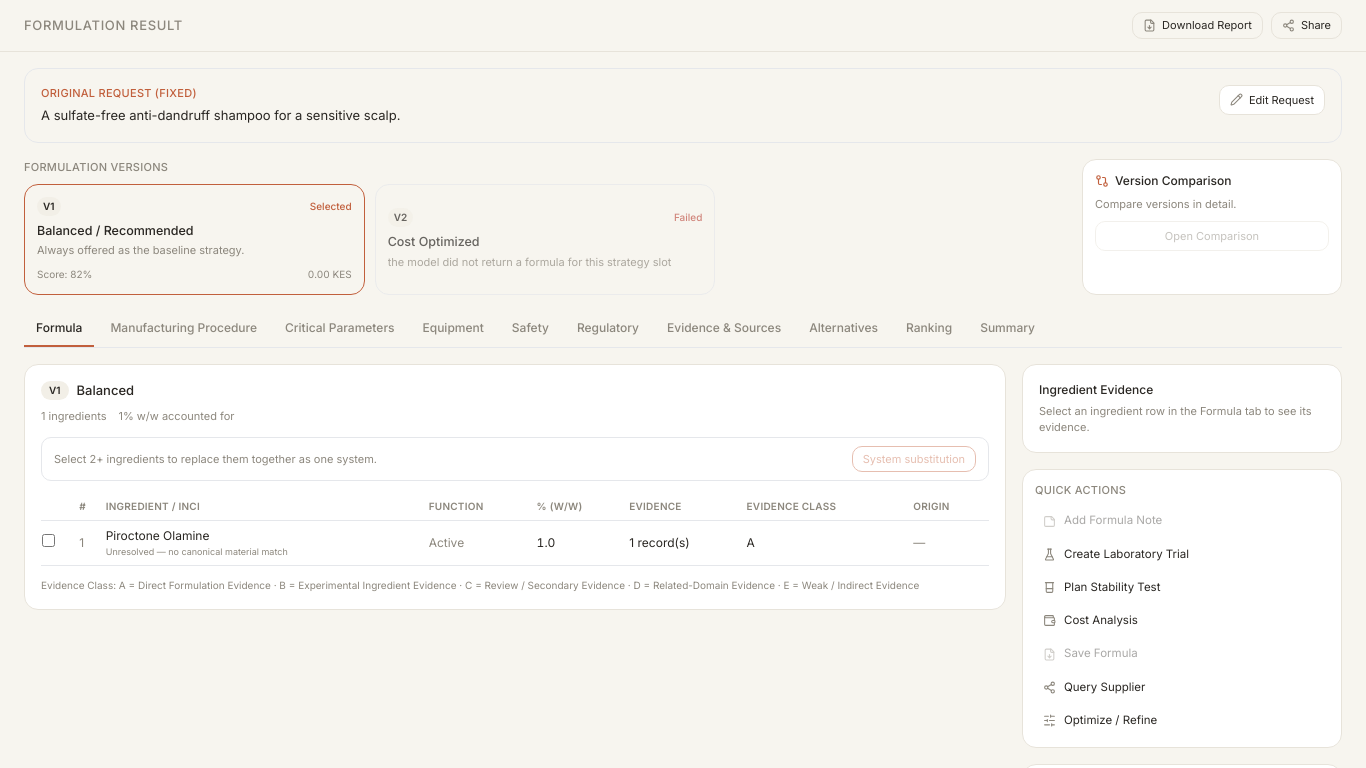
Test: FormulationResultPage — Session 3 strategy/score/evidence/failure wiring › evidence panel shows the real linked evidence class and DOI, not a canned insufficient-evidence notice
This screenshot has width=1366, height=768.
Expected: the text "Piroctone Olamine" is shown, [106, 528, 209, 543]
Click the cell "Piroctone Olamine Unresolved — no canonical material match" at (158, 536), box [105, 521, 428, 565]
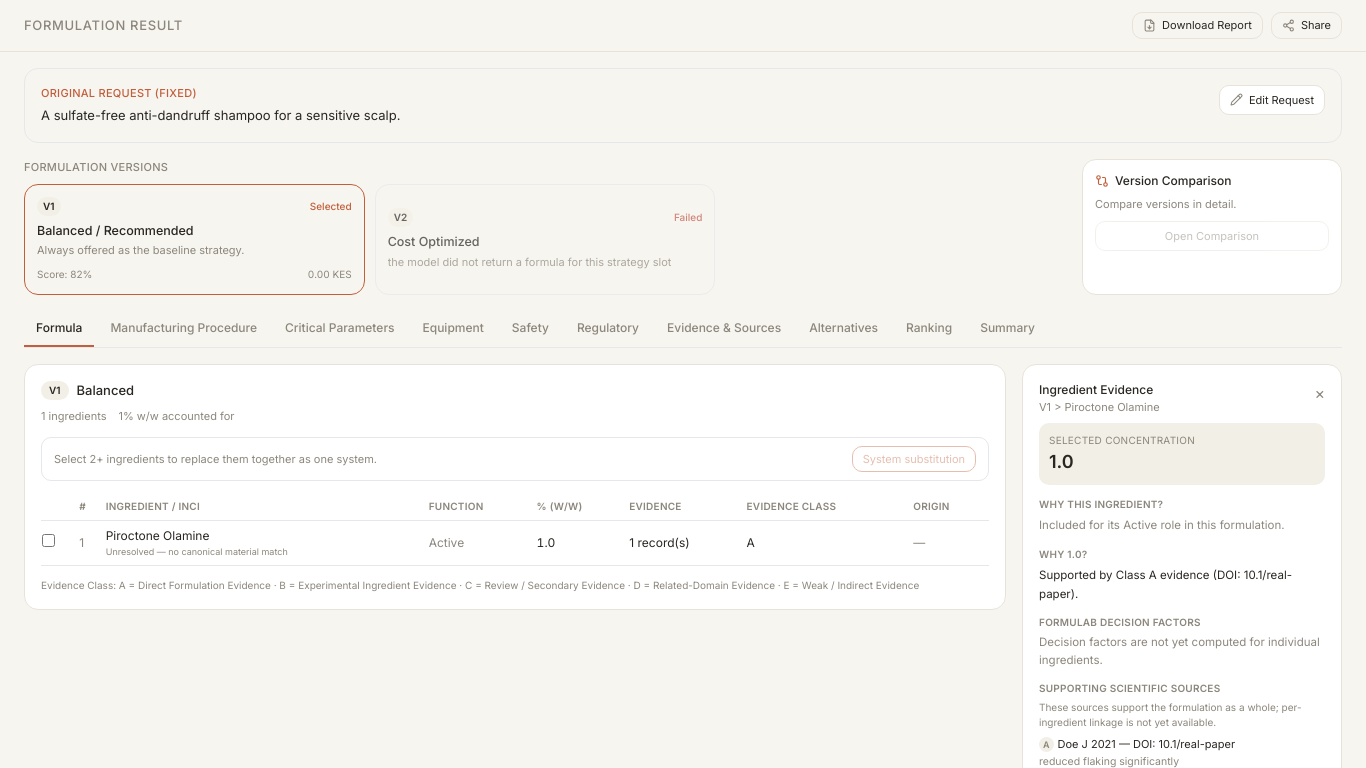
Expected: the text "Supported by Class A evidence (DOI: 10.1/real-paper)." is shown, [1039, 566, 1325, 604]
